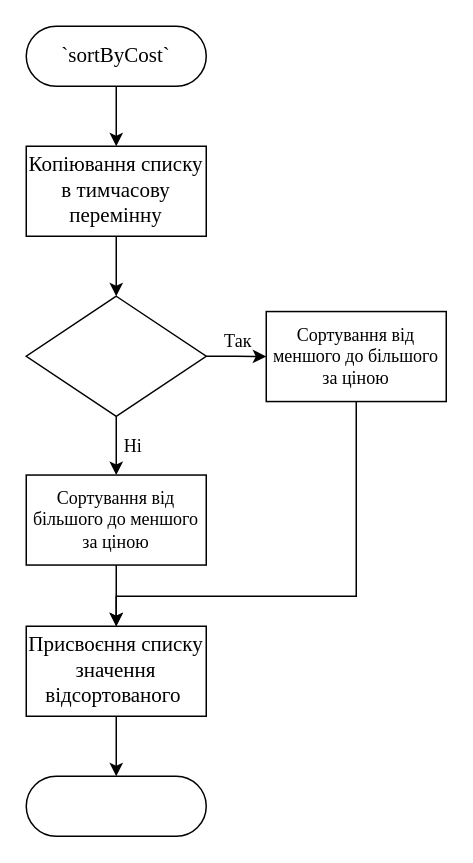
Some shapes in this 473 by 863 pixel diagram are drawn without their labels. Here are the shapes that lost their labels. From the top down, the box of each, then its label:
(25, 295, 206, 416): Напрям сортування '<'?
(25, 775, 206, 836): Кінець
